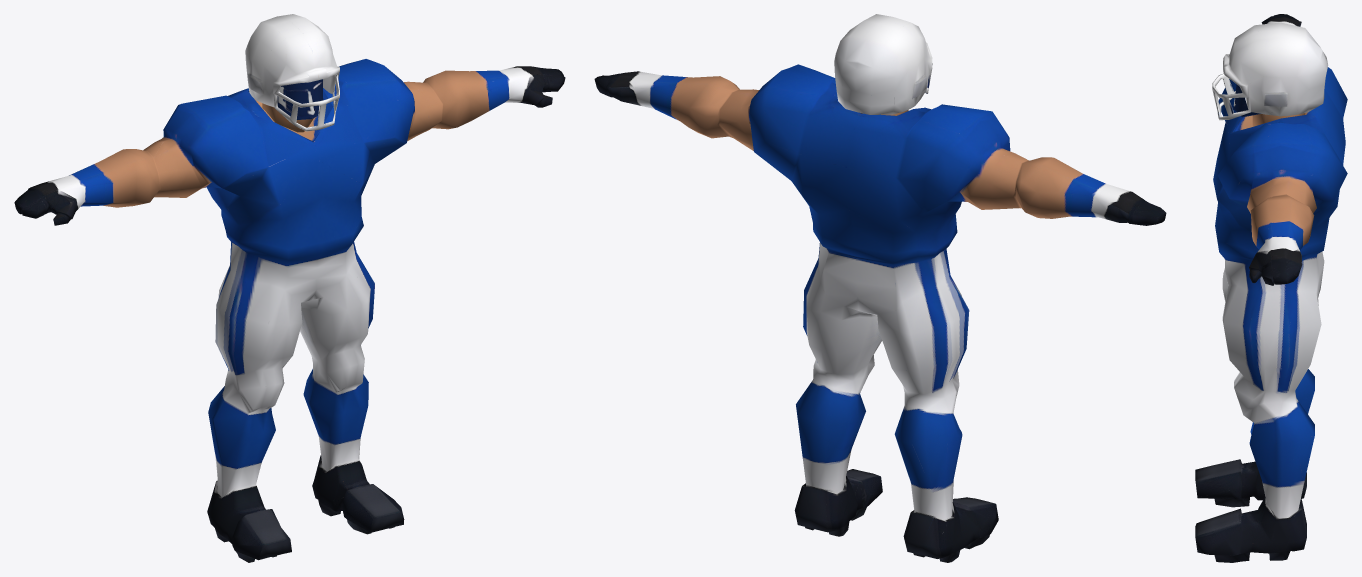
File: lineman.glb
3 views of the same model, side by side, from view 1: azimuth 30°, elevation 25°; view 2: azimuth 150°, elevation 25°; view 3: azimuth 270°, elevation 25° (orthographic). The views are drawn at different scales.
Size of the model in its own units: 0.9565 by 0.8408 by 0.2334.
Materials: 1 (1 with a texture image).
